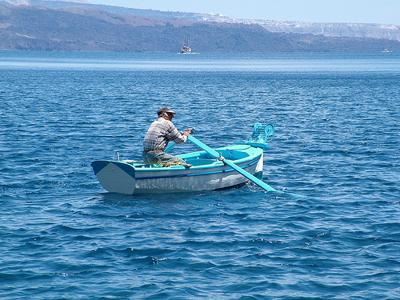person: (141, 107, 194, 167)
